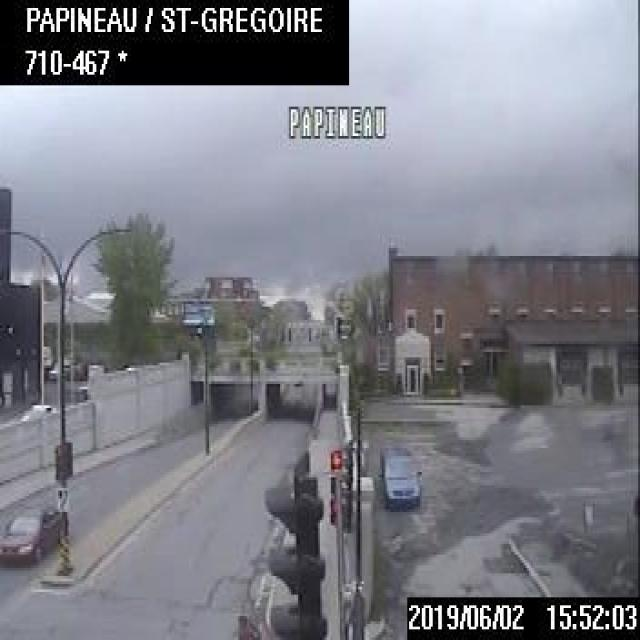vehicle: (0, 504, 67, 562), (376, 439, 424, 510)
